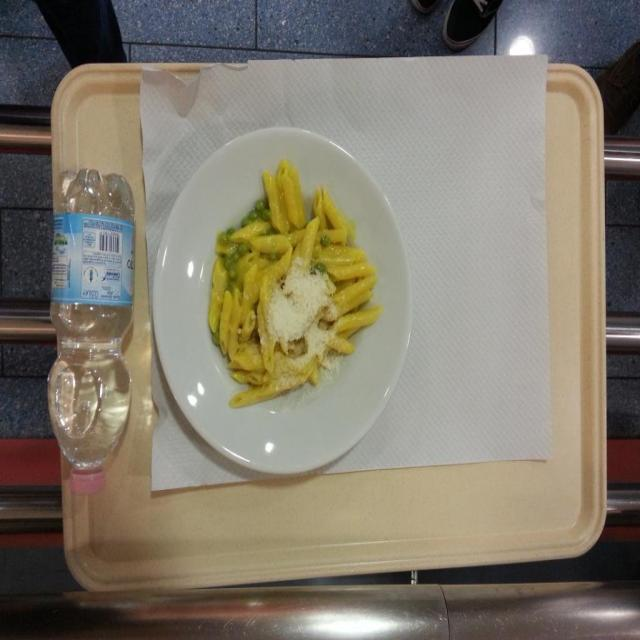plate: (148, 125, 412, 482)
